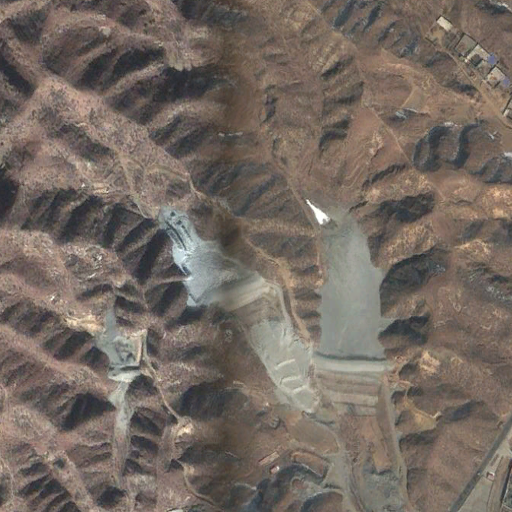tp: (315, 211, 387, 415)
